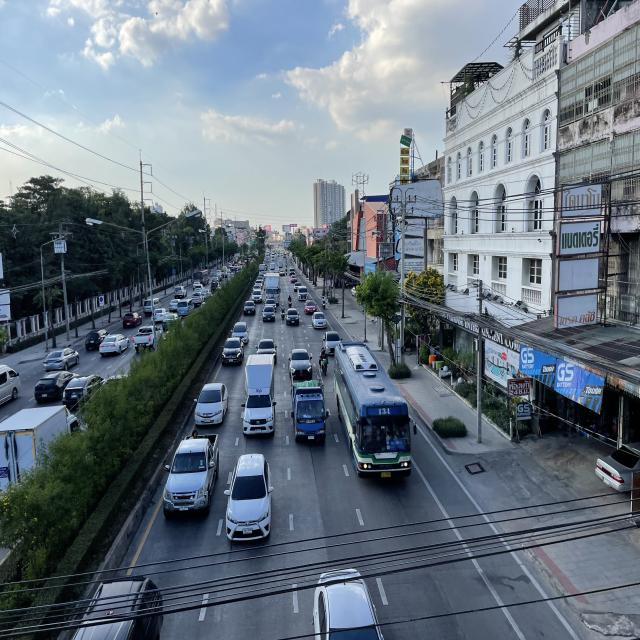bike: (319, 344, 328, 376), (280, 302, 286, 321), (287, 293, 293, 308), (321, 296, 326, 310)
bus: (334, 341, 416, 481)
car: (68, 571, 165, 640), (310, 564, 386, 640), (161, 430, 219, 520), (224, 453, 274, 544), (193, 382, 229, 428), (288, 349, 313, 379), (221, 336, 244, 366), (255, 338, 278, 365), (322, 330, 343, 356), (231, 320, 250, 343)
truck: (244, 354, 276, 439), (291, 379, 329, 444), (264, 273, 281, 305)
